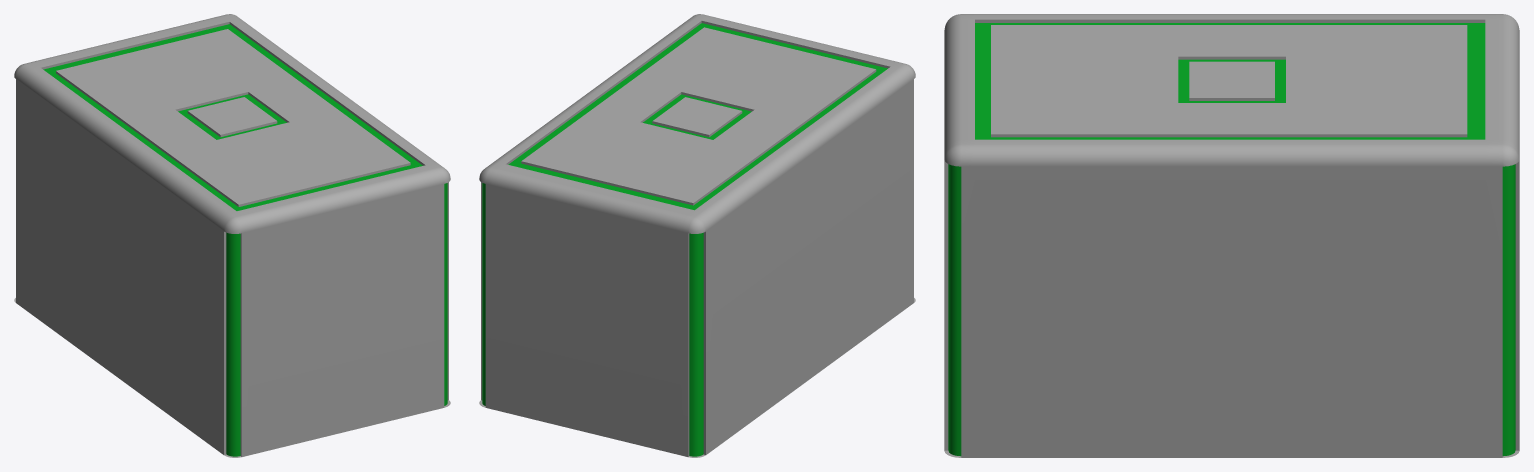
File: PyramidTable.fbx
3 views of the same model, side by side, from view 1: azimuth 30°, elevation 25°; view 2: azimuth 150°, elevation 25°; view 3: azimuth 270°, elevation 25° (orthographic). The views are drawn at different scales.
Visible parts, largest first — view 1: pCube1; view 2: pCube1; view 3: pCube1.
Boxes of the visible parts, x1,y1,x2,y2 form: pCube1: (14,14,450,457); pCube1: (479,14,915,457); pCube1: (944,14,1519,457).
Bounding box in the file's own units: 1 × 1 × 1.7.
